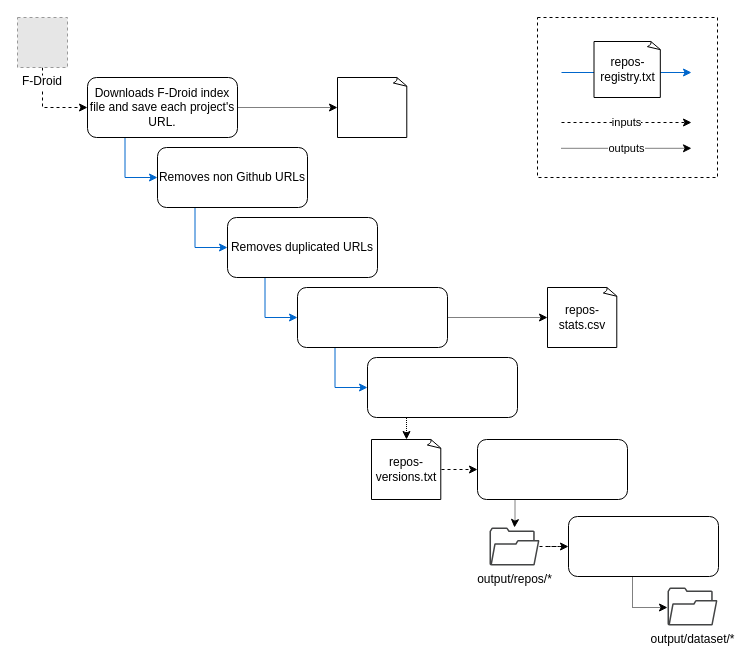
This 752x664 diagram has some shape labels left out. Grey dashed boxes stand in for pictures. The centre of each missing label's shape, as x and y in pixels:
"Augments list with URLs for first and last version of each project." belongs at (442,387).
"Clones all listed repositories." belongs at (552,469).
"fdroid-index.xml" belongs at (372,107).
"Fetches info and stats for each project and filter them." belongs at (372,317).
"Zips each cloned repositories and creates final folder structure." belongs at (643,546).
